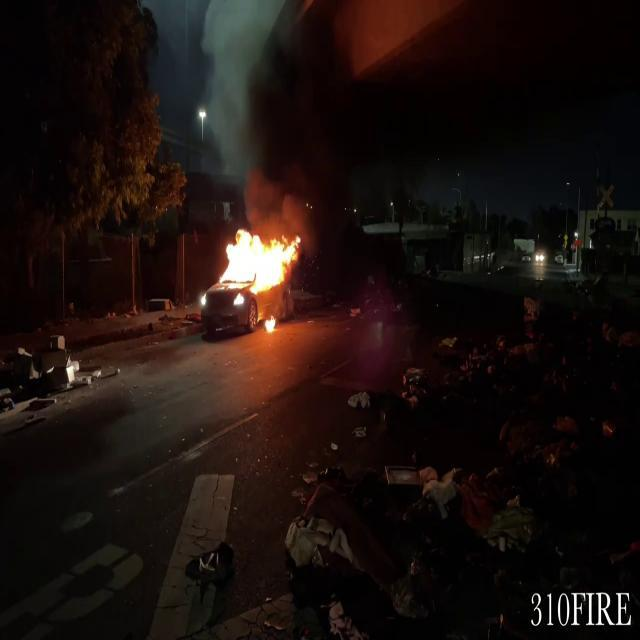Fire: (213, 222, 301, 302)
Smoke: (238, 1, 370, 232)
